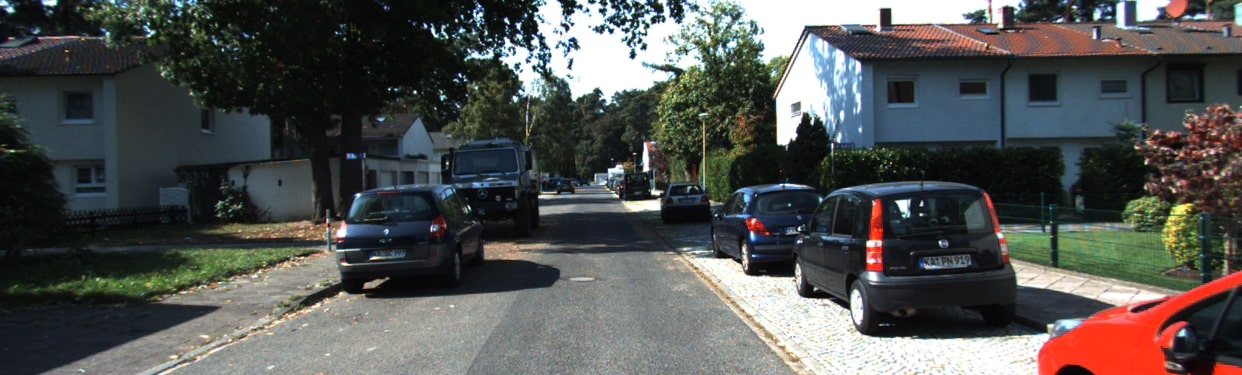car: (799, 180, 1003, 326), (1035, 271, 1242, 372), (335, 188, 484, 290), (445, 137, 543, 238), (711, 184, 816, 276), (664, 182, 705, 221), (619, 169, 655, 204), (552, 177, 577, 199)
